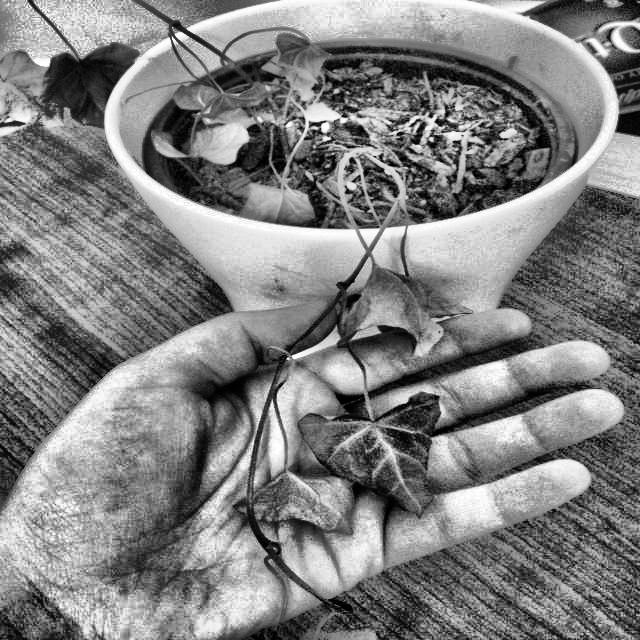plants: (0, 1, 640, 270), (282, 143, 486, 639), (0, 0, 286, 136)
